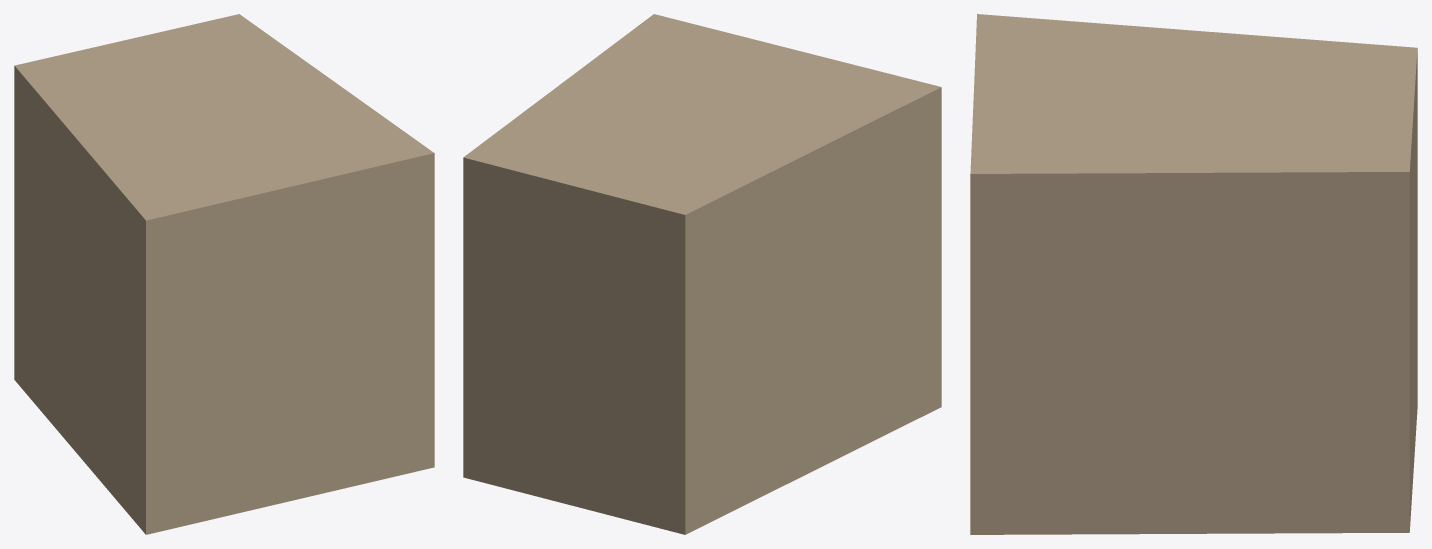
Rendered from bld_99020466.dae.
The picture shows the model from 3 angles, left to right: view 1: azimuth 30°, elevation 25°; view 2: azimuth 150°, elevation 25°; view 3: azimuth 270°, elevation 25°; orthographic projection. The views are drawn at different scales.
Parts seen in each view (by area): view 1: bld_99020466; view 2: bld_99020466; view 3: bld_99020466.
Boxes of the visible parts, x1,y1,x2,y2 form: bld_99020466: (14, 14, 434, 534); bld_99020466: (463, 14, 941, 534); bld_99020466: (970, 14, 1417, 534).
Size of the model in its own units: 7.61 by 8.98 by 8.
